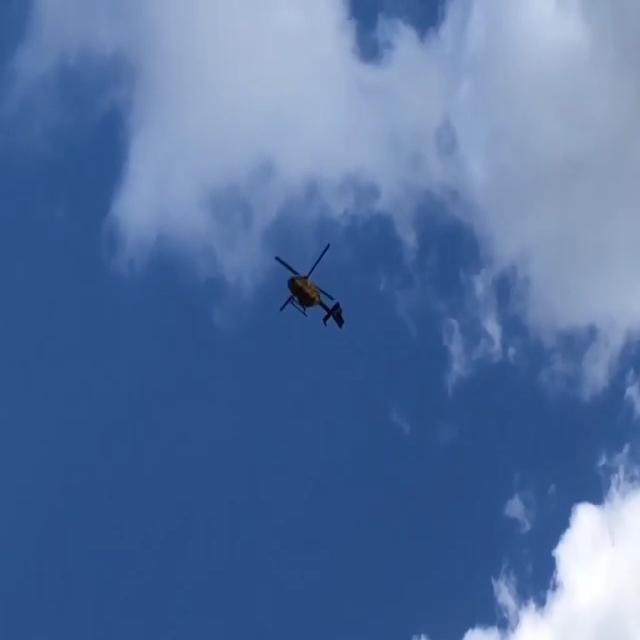Helicopter: (246, 220, 358, 347)
